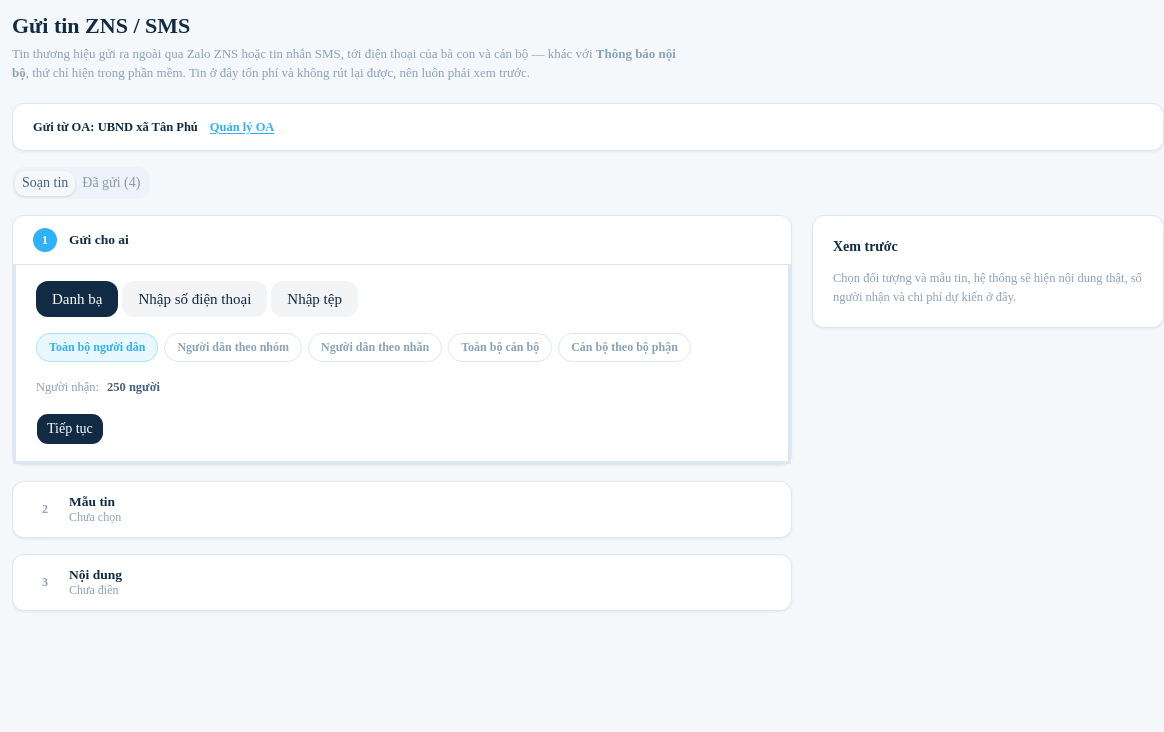
Test case: the Đã gửi tab › five prototype columns, the four statuses in words, cost as text; the count follows the rows loaded; Tải thêm reads the next cursor
Click the tab "Đã gửi (4)": [111, 183] box x1=75 y1=171 x2=147 y2=196
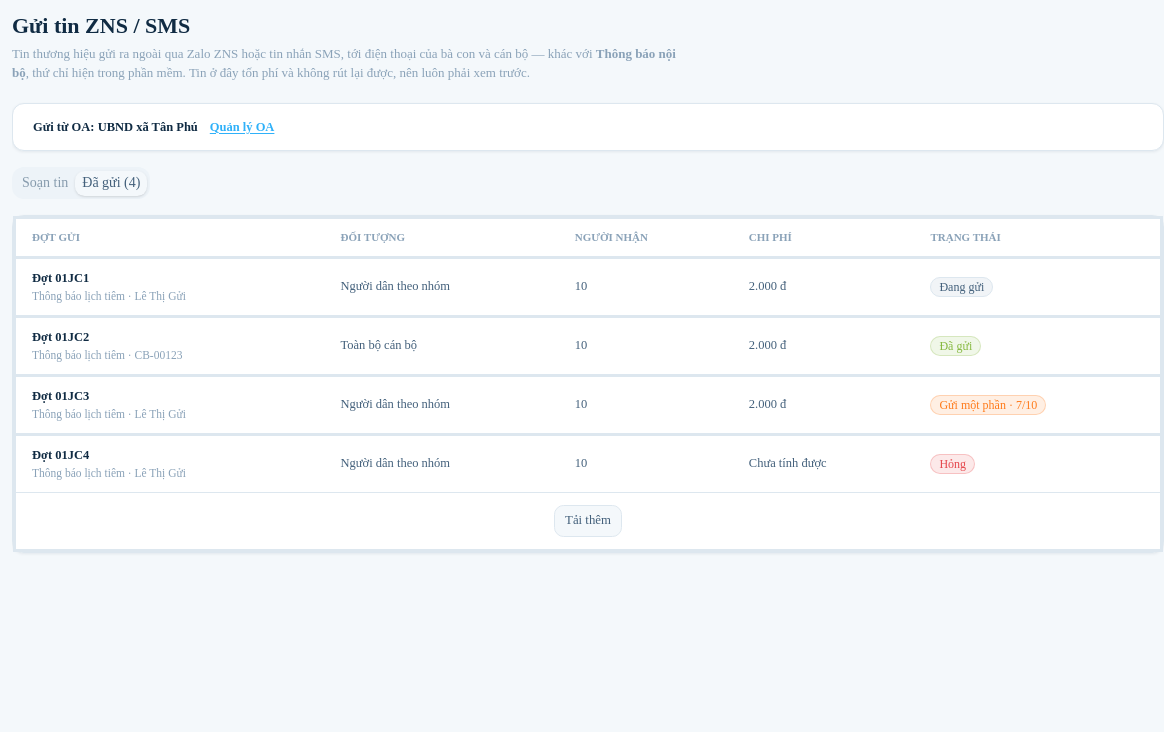
Expected: the text "Đã gửi" is shown, x1=930 y1=336 x2=981 y2=356
Expected: the text "Gửi một phần · 7/10" is shown, x1=930 y1=395 x2=1046 y2=415
Expected: the cell "Chưa tính được" is shown, x1=733 y1=434 x2=914 y2=492
Click the button "Tải thêm": [588, 521] box x1=554 y1=505 x2=622 y2=537
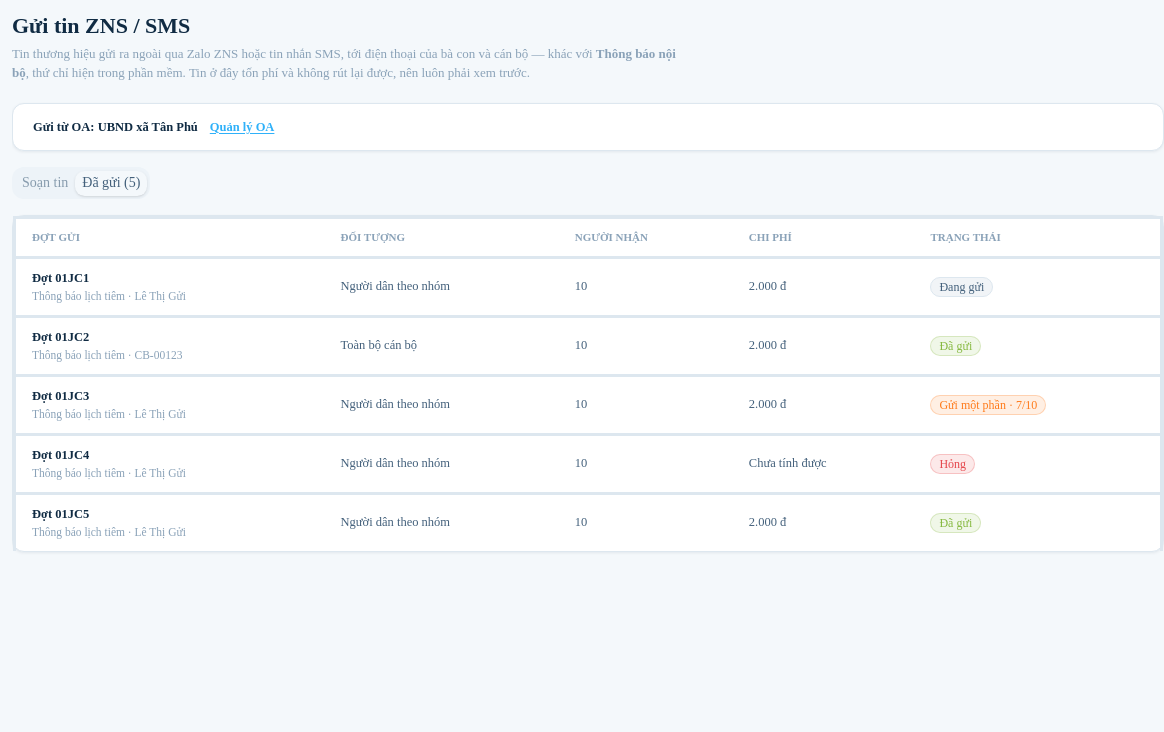
Expected: the row that starts with "Đợt 01JC5" is shown, x1=14 y1=493 x2=1162 y2=551
Expected: the tab "Đã gửi (5)" is shown, x1=75 y1=171 x2=147 y2=196
